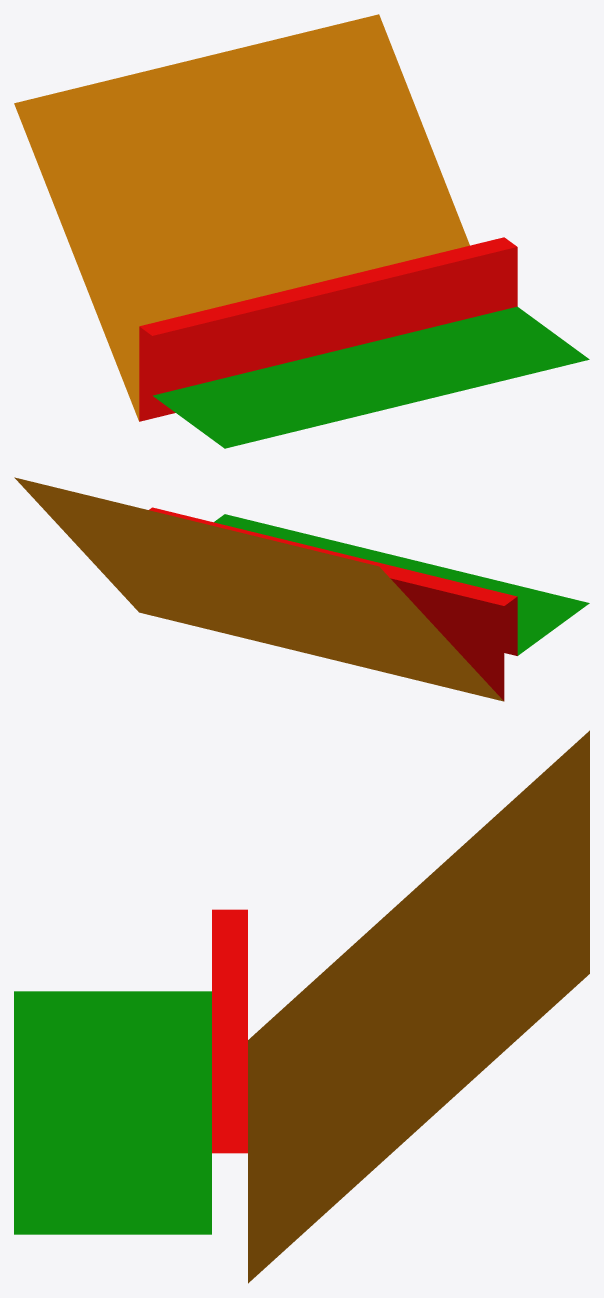
3 views of the same model, one above another, from view 1: azimuth 30°, elevation 25°; view 2: azimuth 150°, elevation 25°; view 3: azimuth 270°, elevation 25° (orthographic). The views are drawn at different scales.
Visible parts, largest first — view 1: None_S_W_E_E_S_W_E_E_None; view 2: None_S_W_E_E_S_W_E_E_None; view 3: None_S_W_E_E_S_W_E_E_None.
Part boxes in pixels (x1,y1,x2,y2): None_S_W_E_E_S_W_E_E_None: (14, 14, 589, 448); None_S_W_E_E_S_W_E_E_None: (14, 477, 589, 701); None_S_W_E_E_S_W_E_E_None: (14, 730, 589, 1283).
Bounding box in the file's own units: 100 × 59.38 × 100.
